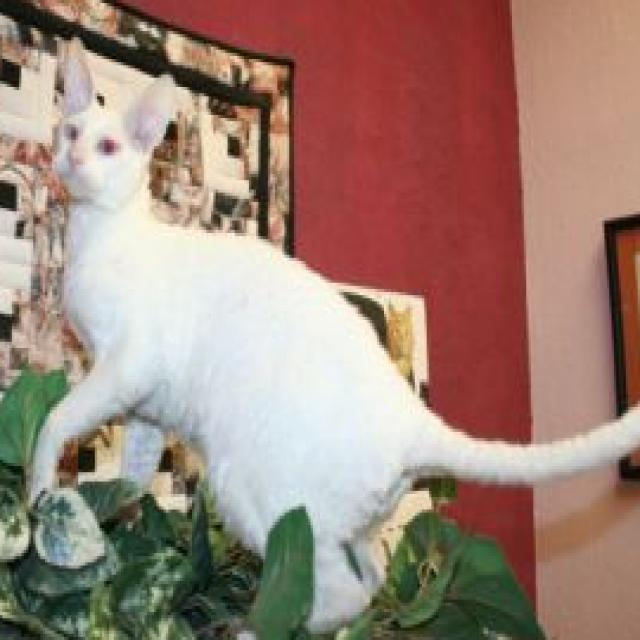Cornish Rex: (26, 34, 640, 640)
